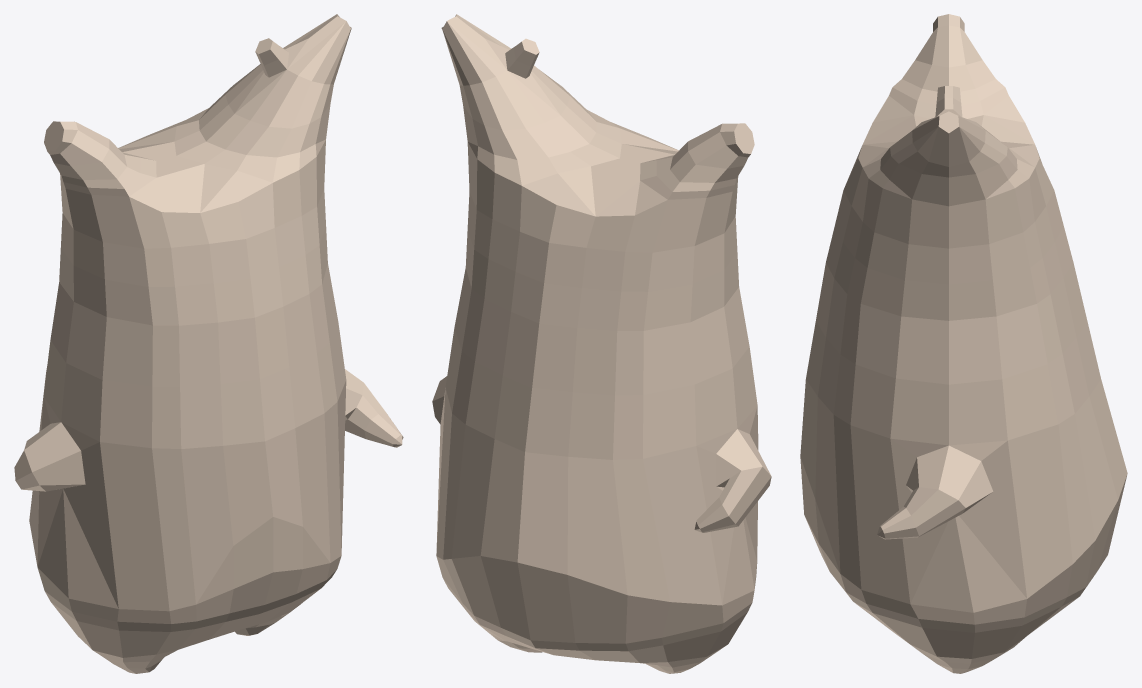
File: frame_0036.obj
3 renders of one model, left to right at view 1: azimuth 30°, elevation 25°; view 2: azimuth 150°, elevation 25°; view 3: azimuth 270°, elevation 25°, orthographic.
Parts seen in each view (by area): view 1: korok; view 2: korok; view 3: korok.
Boxes of the visible parts, x1,y1,x2,y2 form: korok: [14, 14, 403, 673]; korok: [432, 14, 771, 673]; korok: [800, 14, 1127, 673].
Size of the model in its own units: 1.28 by 2.16 by 1.06.
